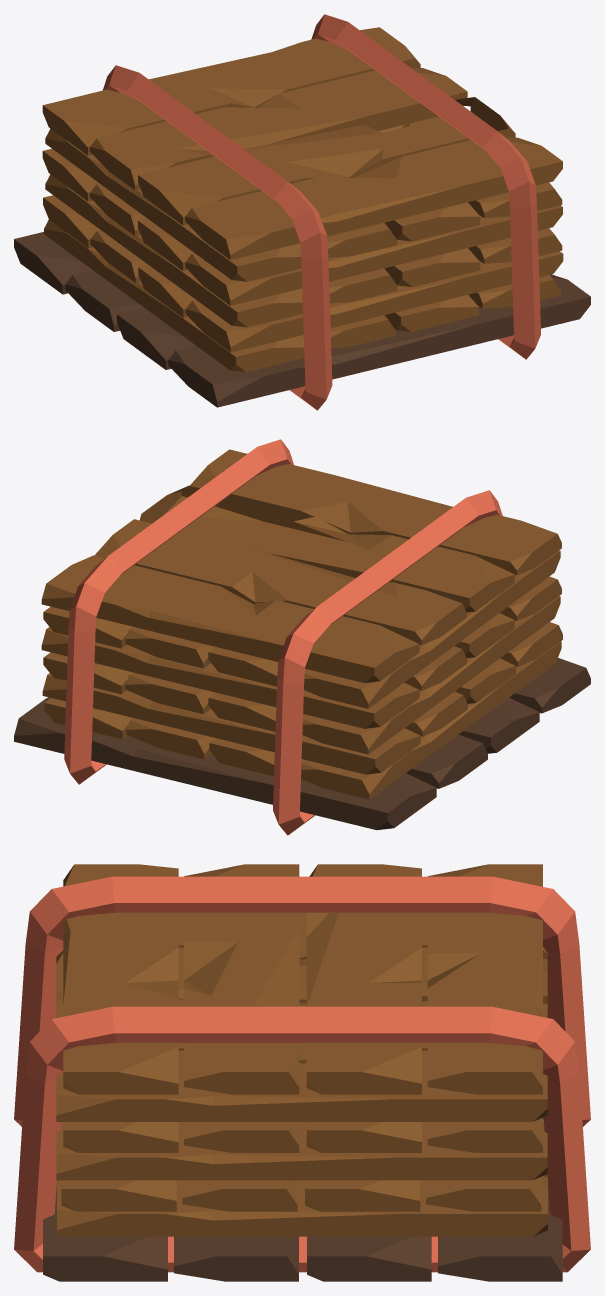
Rendered from MediumWoodBox.fbx.
The picture shows the model from 3 angles, top to bottom: view 1: azimuth 30°, elevation 25°; view 2: azimuth 150°, elevation 25°; view 3: azimuth 270°, elevation 25°; orthographic projection. The views are drawn at different scales.
Visible parts, largest first — view 1: Wood, WoodenBox; view 2: Wood, WoodenBox; view 3: Wood, WoodenBox.
Boxes of the visible parts, bbox=[...] form: Wood: bbox=[42, 14, 563, 410]; WoodenBox: bbox=[14, 232, 590, 407]; Wood: bbox=[41, 439, 562, 835]; WoodenBox: bbox=[14, 658, 590, 830]; Wood: bbox=[14, 864, 590, 1272]; WoodenBox: bbox=[43, 1183, 562, 1281].
Bounding box in the file's own units: 143 × 75.94 × 150.
